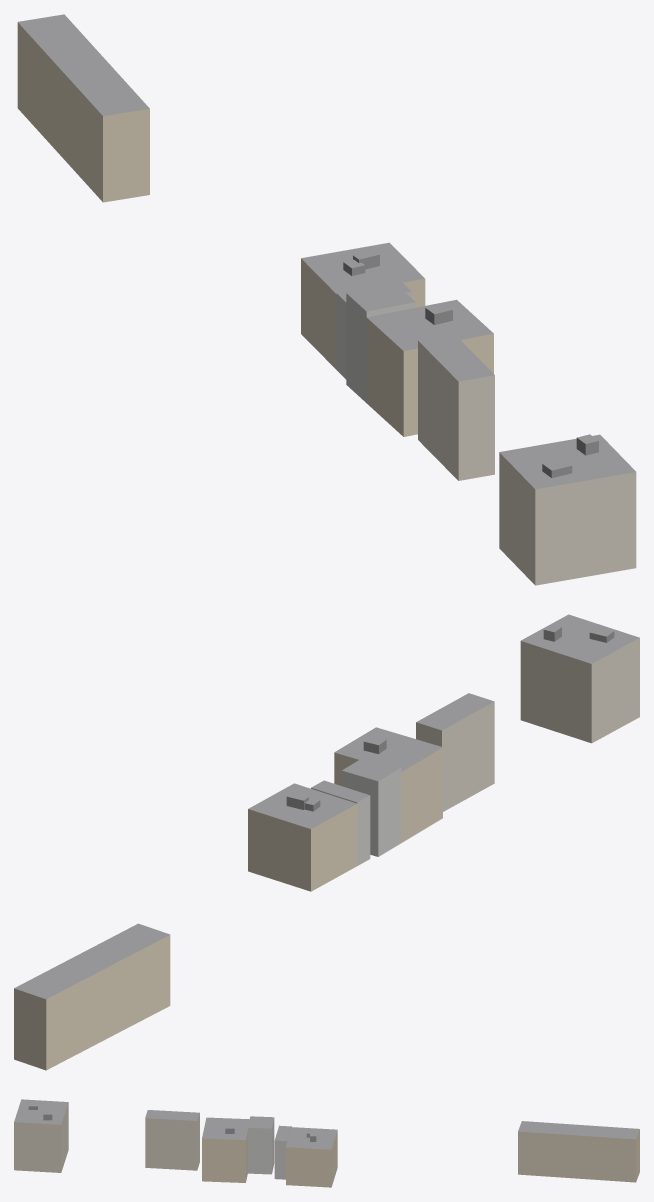
File: building_5_-2.glb
3 renders of one model, top to bottom at view 1: azimuth 30°, elevation 25°; view 2: azimuth 150°, elevation 25°; view 3: azimuth 270°, elevation 25°, orthographic. The views are drawn at different scales.
Visible parts, largest first — view 1: concrete_warm, roof, sandstone, concrete_light; view 2: sandstone, concrete_warm, roof, concrete_light; view 3: sandstone, concrete_warm, roof, concrete_light.
Boxes of the visible parts, x1,y1,x2,y2 form: concrete_warm: (418, 341, 636, 585); roof: (18, 14, 635, 489); sandstone: (17, 22, 493, 436); concrete_light: (336, 291, 415, 402); sandstone: (14, 747, 442, 1070); concrete_warm: (416, 638, 639, 811); roof: (14, 614, 639, 999); concrete_light: (311, 768, 401, 865); sandstone: (202, 1129, 639, 1187); concrete_warm: (14, 1102, 199, 1172); roof: (14, 1099, 639, 1149); concrete_light: (248, 1118, 291, 1179).
Bounding box in the file's own units: 22.77 × 14.25 × 150.
